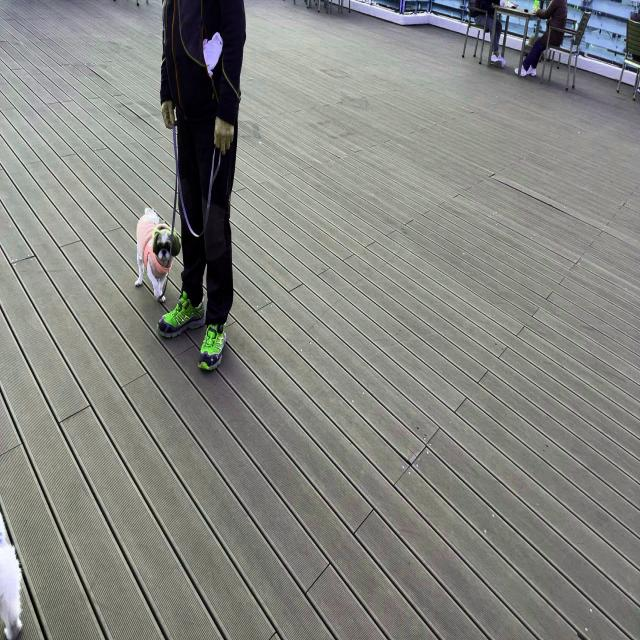Leashed_Dog: (134, 100, 197, 304)
